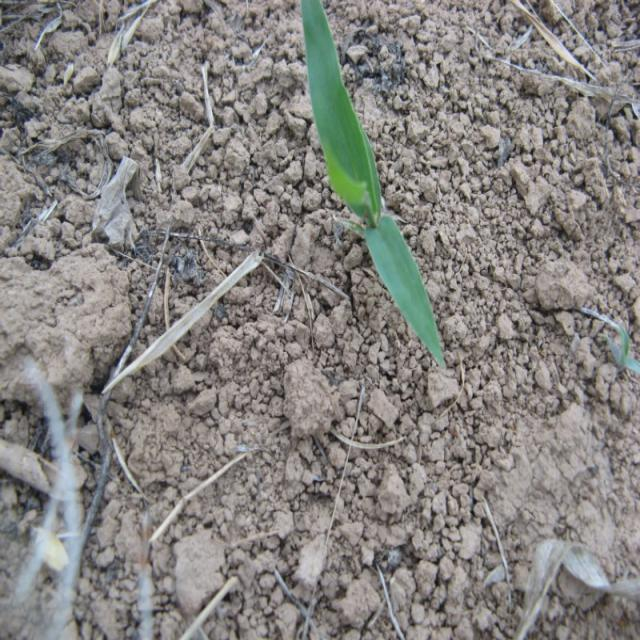bg: (299, 0, 451, 365)
